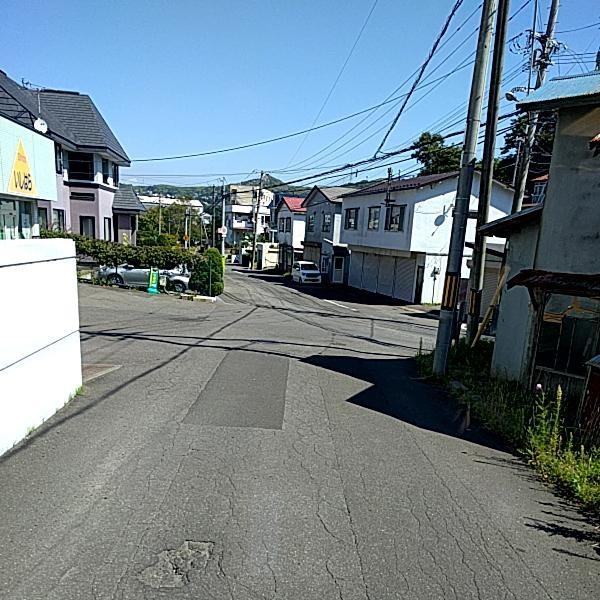pothole: (132, 534, 223, 590)
